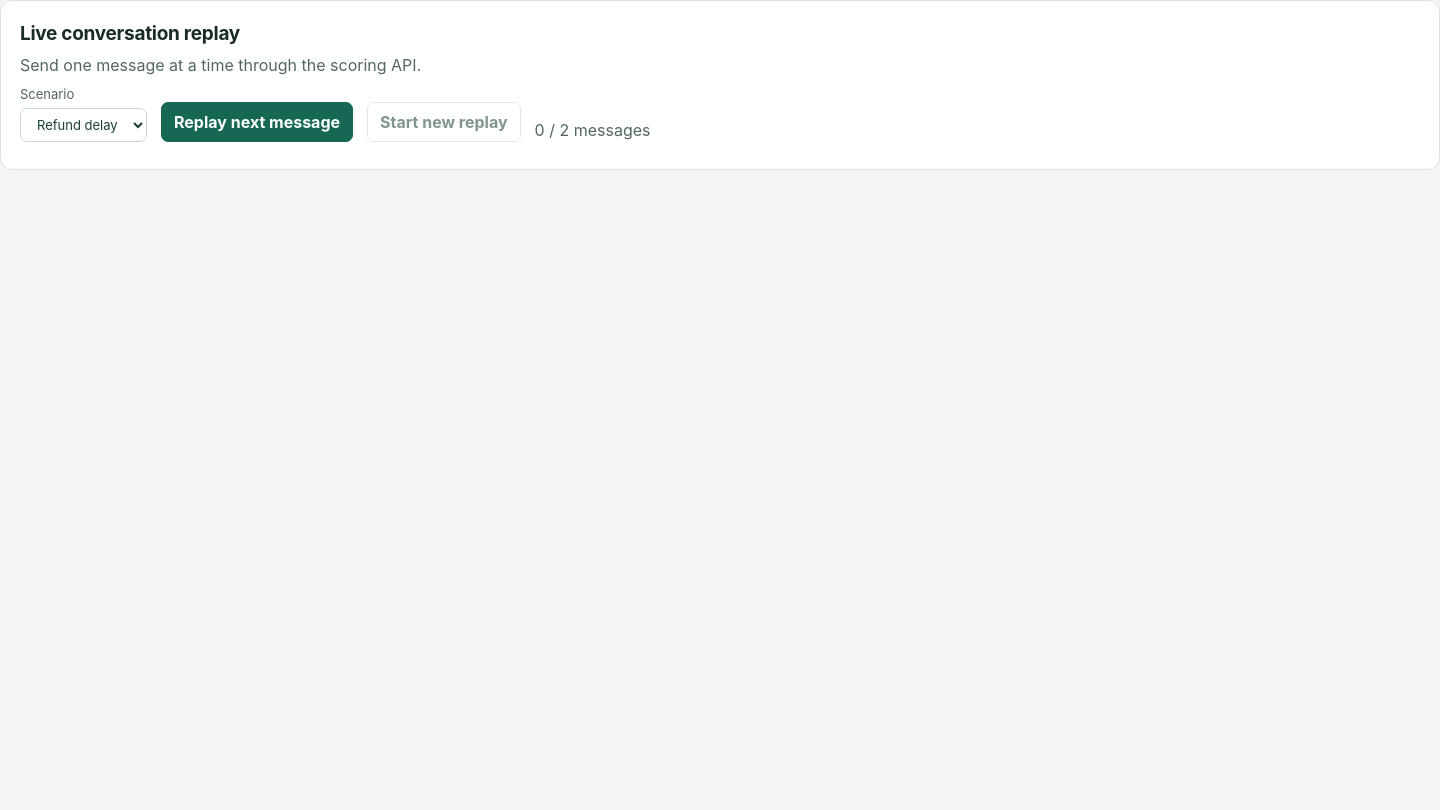
Test: Replay › retries a failed message with the same ticket and idempotency key
Step 1. Click the button "Replay next message" → (257,122), box [161,102,353,142]
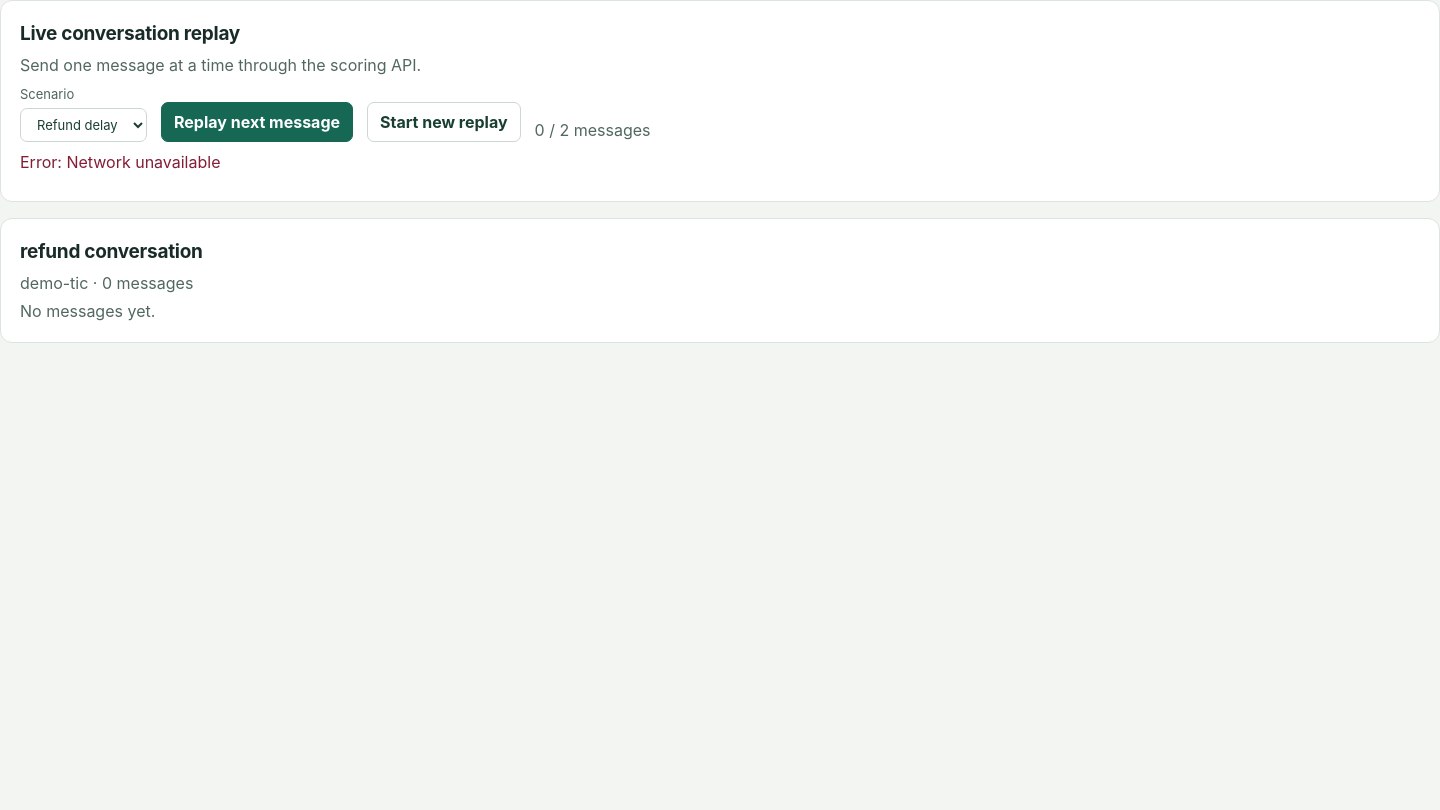
Expected: the text "0 / 2 messages" is shown, [535,118,650,142]
Expected: the message "Error: Network unavailable" is shown, [20,152,220,172]
Step 2. Click the button "Replay next message" → (257,122), box [161,102,353,142]
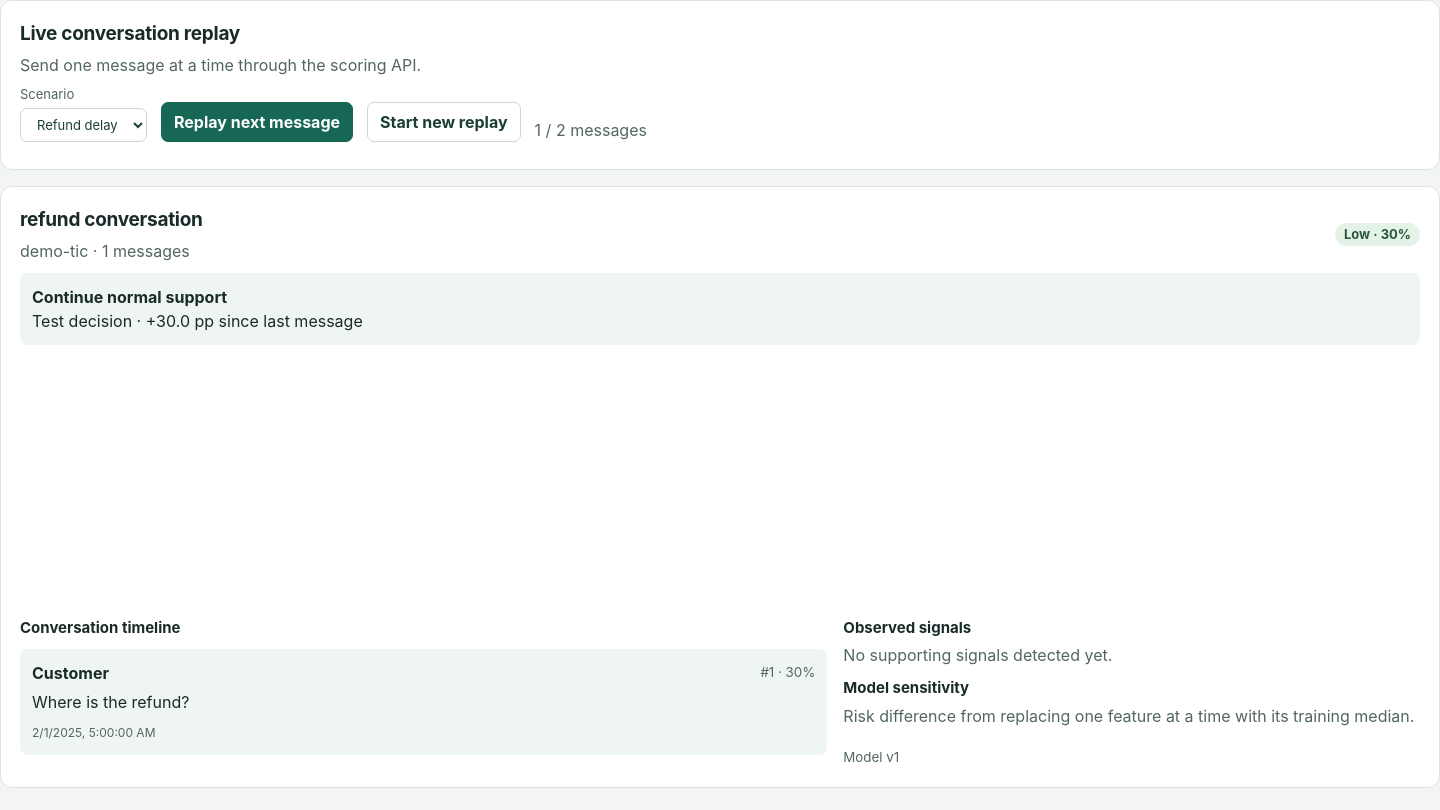
Expected: the text "1 / 2 messages" is shown, [535,118,647,142]
